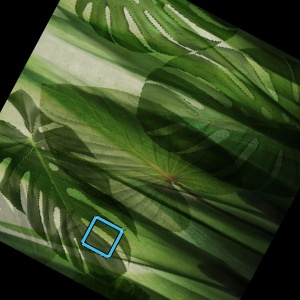square: (79, 214, 127, 259)
